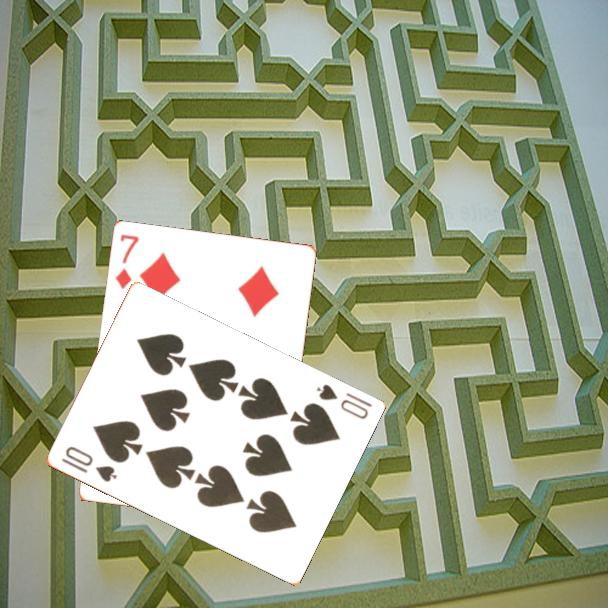d07: (112, 231, 142, 293)
s10: (57, 443, 120, 485), (312, 381, 375, 422)
